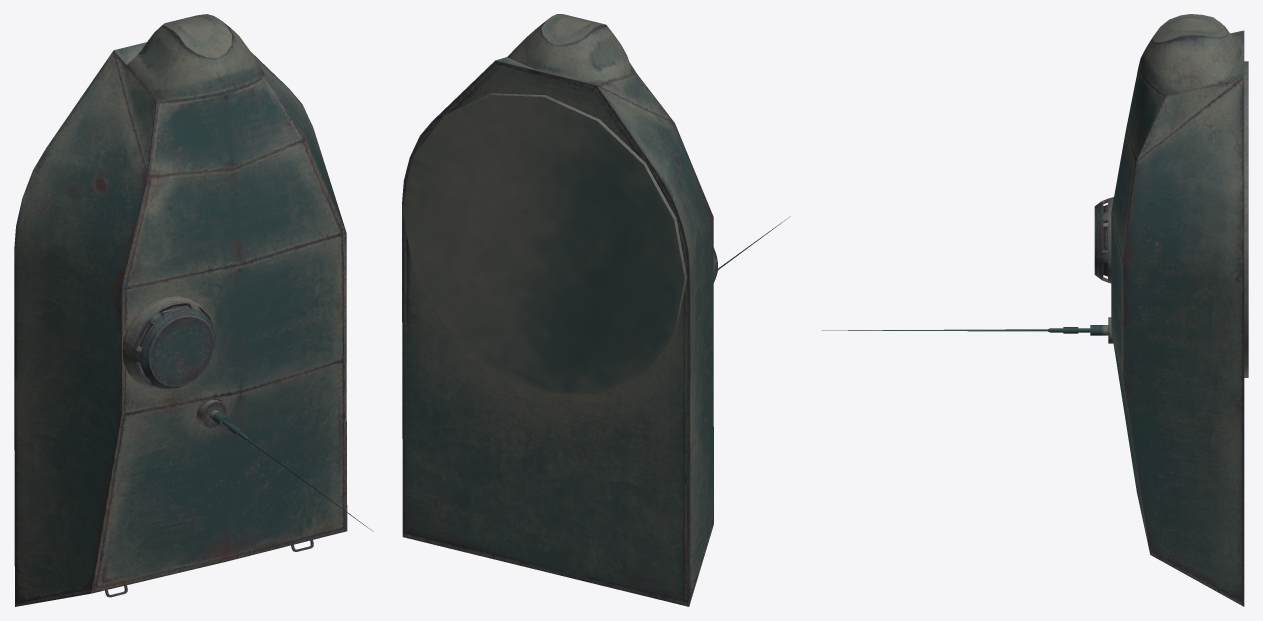
Rendered from Turret_01.glb.
3 views of the same model, side by side, from view 1: azimuth 30°, elevation 25°; view 2: azimuth 150°, elevation 25°; view 3: azimuth 270°, elevation 25° (orthographic). The views are drawn at different scales.
Visible parts, largest first — view 1: set_0_group_0; view 2: set_0_group_0; view 3: set_0_group_0.
Part boxes in pixels (x1,y1,x2,y2): set_0_group_0: [14, 14, 373, 606]; set_0_group_0: [402, 14, 790, 606]; set_0_group_0: [822, 14, 1248, 606].
Bounding box in the file's own units: 2.34 × 4.13 × 3.12.
1 material, 1 textured.
